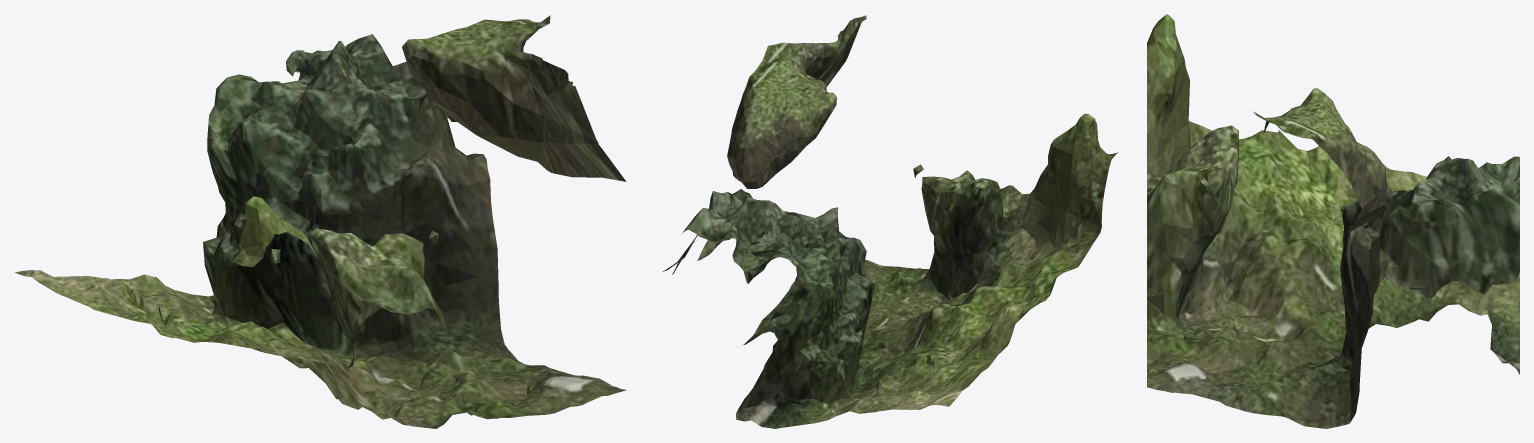
3 views of the same model, side by side, from view 1: azimuth 30°, elevation 25°; view 2: azimuth 150°, elevation 25°; view 3: azimuth 270°, elevation 25° (orthographic). The views are drawn at different scales.
Size of the model in its own units: 5.9 by 5.39 by 5.9.
Materials: 5 (5 with a texture image).
